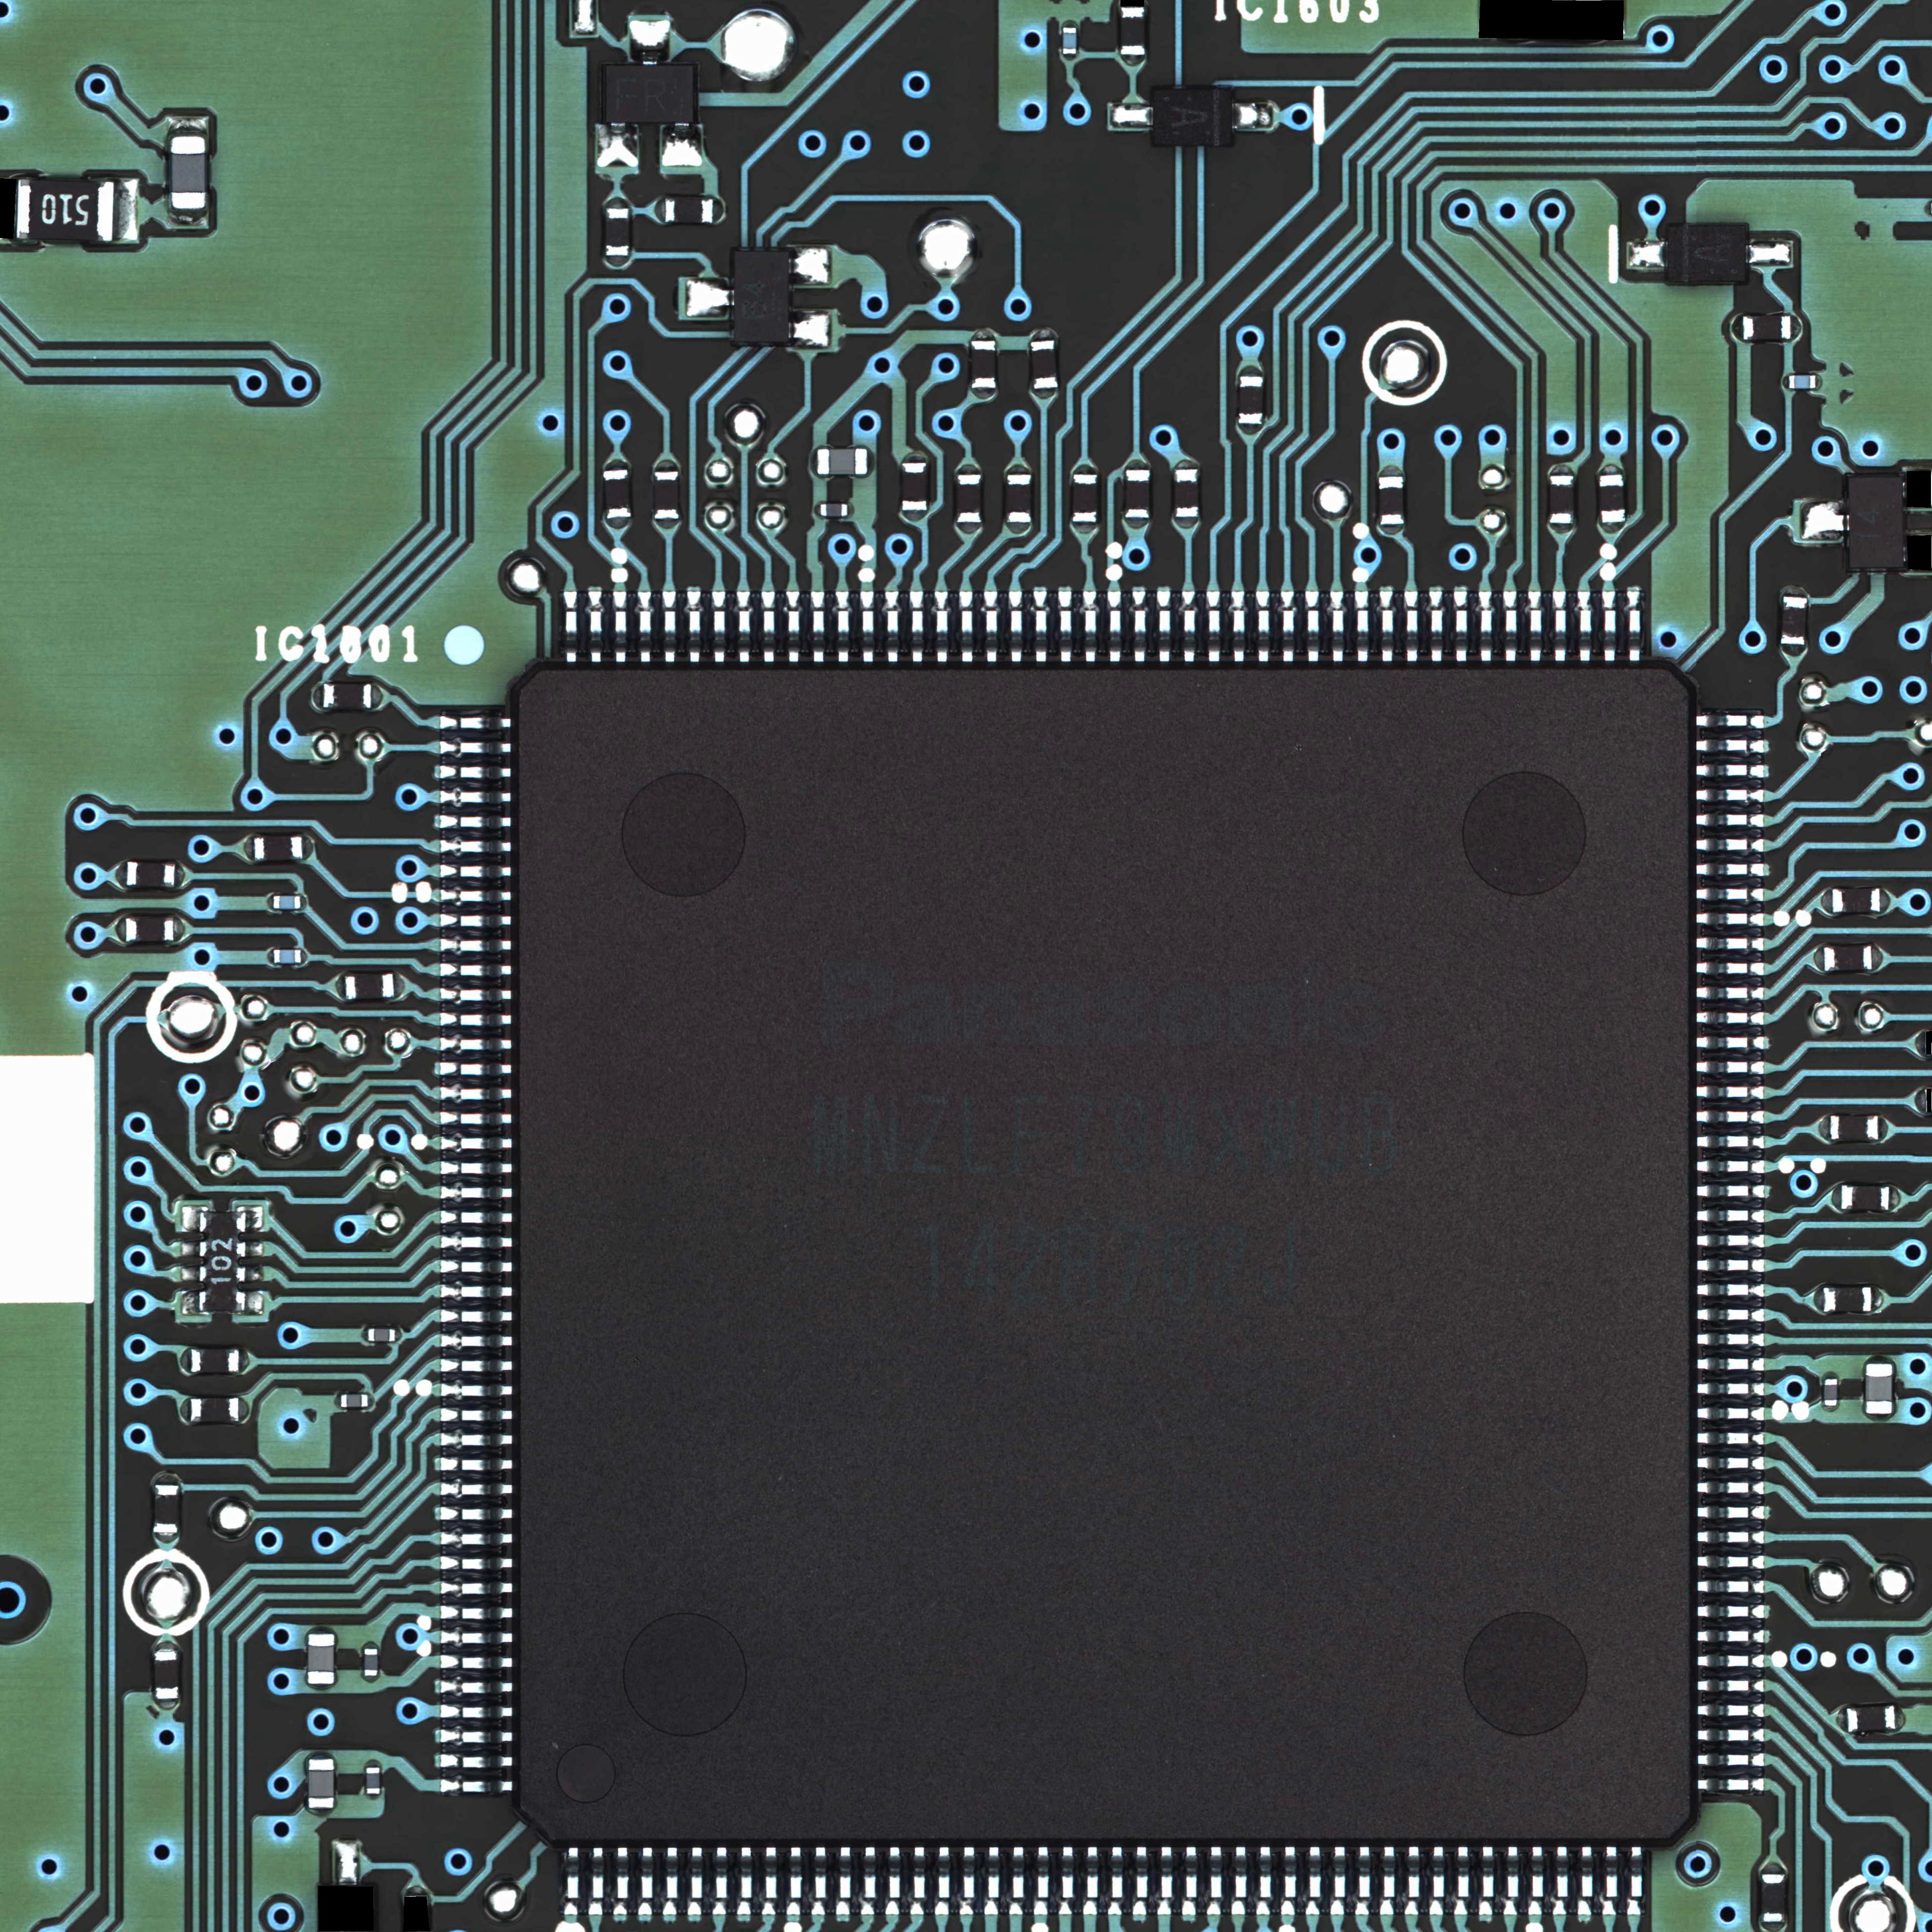Package: (513, 663, 1695, 1845), (1845, 474, 1905, 573), (18, 179, 113, 241), (607, 65, 694, 122), (736, 251, 789, 341), (200, 1212, 246, 1313), (1154, 88, 1231, 145), (1668, 225, 1746, 281), (172, 136, 205, 209), (308, 1633, 334, 1684), (603, 471, 632, 518), (1030, 340, 1058, 387), (308, 1759, 334, 1808), (1847, 1706, 1897, 1732), (1822, 1286, 1872, 1313), (955, 474, 982, 522), (1599, 474, 1626, 522), (1824, 945, 1872, 971), (345, 973, 395, 998), (189, 1398, 239, 1422), (1125, 469, 1150, 518), (817, 449, 867, 474), (1238, 375, 1263, 425), (1867, 1364, 1891, 1414), (1829, 1115, 1879, 1139), (324, 683, 372, 708), (127, 862, 175, 886), (126, 916, 173, 941), (191, 1348, 239, 1373), (154, 1484, 179, 1532), (665, 198, 713, 223), (971, 340, 996, 387), (655, 471, 679, 518), (902, 462, 927, 510), (1378, 476, 1403, 524), (1548, 476, 1573, 524), (1842, 1185, 1890, 1210), (1782, 596, 1806, 644), (1120, 7, 1145, 55), (253, 837, 303, 860), (1072, 474, 1097, 520), (156, 1651, 179, 1698), (1007, 474, 1030, 522), (1175, 469, 1198, 517), (1762, 1874, 1785, 1921), (1743, 317, 1790, 340), (1833, 888, 1879, 911), (607, 209, 628, 255), (363, 1649, 379, 1675), (272, 895, 301, 909), (341, 1394, 368, 1408), (366, 1767, 380, 1794), (1063, 28, 1077, 53), (1790, 375, 1815, 389), (274, 950, 301, 962), (368, 1329, 395, 1341), (821, 504, 847, 517), (1824, 1378, 1836, 1405)
Solder: (685, 278, 734, 318), (594, 124, 639, 168), (1801, 499, 1845, 541), (662, 122, 702, 166), (630, 19, 671, 64), (789, 246, 832, 287), (789, 310, 832, 349), (115, 179, 140, 244), (331, 1838, 359, 1884), (860, 1845, 878, 1916), (909, 1845, 927, 1916), (934, 1845, 952, 1916), (984, 1845, 1001, 1916), (1279, 1845, 1297, 1916), (612, 1845, 630, 1916), (711, 1845, 729, 1916), (761, 591, 777, 663), (835, 591, 851, 663), (860, 591, 876, 663), (909, 591, 925, 663), (1106, 591, 1122, 663), (1378, 591, 1394, 663), (1576, 591, 1592, 663), (1748, 239, 1790, 265), (736, 1845, 752, 1916), (763, 1845, 778, 1916), (787, 1845, 803, 1916), (810, 1845, 826, 1916), (837, 1845, 853, 1916), (886, 1845, 902, 1916), (959, 1845, 975, 1916), (1008, 1845, 1024, 1916), (1033, 1845, 1049, 1916), (1058, 1845, 1074, 1916), (1083, 1845, 1099, 1916), (1108, 1845, 1123, 1916), (1132, 1845, 1148, 1916), (1157, 1845, 1173, 1916), (1182, 1845, 1198, 1916), (1207, 1845, 1223, 1916), (1231, 1845, 1247, 1916), (1256, 1845, 1272, 1916), (1306, 1845, 1322, 1916), (1330, 1845, 1346, 1916), (1355, 1845, 1371, 1916), (1380, 1845, 1396, 1916), (1405, 1845, 1421, 1916), (1479, 1845, 1495, 1916), (1504, 1845, 1520, 1916), (1529, 1845, 1545, 1916), (563, 1845, 579, 1916), (587, 1845, 603, 1916), (637, 1845, 653, 1916), (662, 1845, 678, 1916), (686, 1845, 702, 1916), (1695, 1307, 1766, 1323), (1695, 1060, 1766, 1076), (1695, 862, 1766, 878), (1430, 1845, 1445, 1914), (1454, 1845, 1470, 1914), (1697, 1456, 1766, 1472), (1697, 787, 1766, 803), (1697, 1085, 1764, 1100), (1697, 886, 1764, 902), (1697, 763, 1764, 778), (1697, 738, 1764, 754), (1697, 713, 1764, 729), (1629, 241, 1667, 269), (1430, 589, 1444, 663), (1454, 589, 1468, 663), (1233, 101, 1272, 127), (564, 591, 579, 663), (589, 591, 603, 663), (639, 591, 653, 663), (612, 591, 626, 663), (663, 591, 678, 663), (688, 591, 702, 663), (711, 591, 725, 663), (736, 591, 750, 663), (787, 591, 801, 663), (810, 591, 824, 663), (886, 591, 901, 663), (934, 591, 948, 663), (959, 591, 973, 663), (984, 591, 998, 663), (1008, 591, 1023, 663), (1033, 591, 1047, 663), (1058, 591, 1072, 663), (1083, 591, 1097, 663), (1132, 591, 1146, 663), (1157, 591, 1171, 663), (1182, 591, 1196, 663), (1207, 591, 1221, 663), (1231, 591, 1246, 663), (1256, 591, 1270, 663), (1281, 591, 1295, 663), (1306, 591, 1320, 663), (1330, 591, 1345, 663), (1355, 591, 1369, 663), (1405, 591, 1419, 663), (1479, 591, 1493, 663), (1504, 591, 1518, 663), (1529, 591, 1543, 663), (1553, 591, 1568, 663), (1603, 591, 1617, 663), (1626, 591, 1640, 663), (441, 1778, 513, 1792), (441, 1753, 513, 1767), (441, 1679, 513, 1693), (441, 1654, 513, 1668), (441, 1580, 513, 1594), (441, 1555, 513, 1569), (441, 1483, 513, 1497), (441, 1458, 513, 1472), (441, 1384, 513, 1398), (441, 1359, 513, 1373), (441, 1334, 513, 1348), (441, 1309, 513, 1323), (441, 1284, 513, 1299), (441, 1260, 513, 1274), (441, 1161, 513, 1175), (441, 1136, 513, 1150), (441, 1012, 513, 1026), (441, 987, 513, 1001), (441, 913, 513, 927), (441, 888, 513, 902), (441, 863, 513, 878), (441, 839, 513, 853), (441, 814, 513, 828), (441, 789, 513, 803), (1578, 1845, 1592, 1916), (1603, 1845, 1617, 1916), (1628, 1845, 1642, 1916), (441, 1729, 511, 1743), (441, 1704, 511, 1718), (441, 1629, 511, 1644), (441, 1605, 511, 1619), (441, 1530, 511, 1545), (441, 1506, 511, 1520), (441, 1433, 511, 1447), (441, 1408, 511, 1422), (441, 1235, 511, 1249), (441, 1210, 511, 1224), (441, 1185, 511, 1200), (441, 1111, 511, 1125), (441, 1086, 511, 1100), (441, 1062, 511, 1076), (441, 1037, 511, 1051), (441, 962, 511, 977), (441, 938, 511, 952), (441, 764, 511, 778), (441, 740, 511, 754), (441, 715, 511, 729), (1695, 1506, 1766, 1520), (1695, 1481, 1766, 1495), (1695, 1357, 1766, 1371), (1695, 1332, 1766, 1346), (1695, 1283, 1766, 1297), (1695, 1258, 1766, 1272), (1695, 1184, 1766, 1198), (1695, 1136, 1766, 1150), (1695, 839, 1766, 853), (1695, 814, 1766, 828), (1695, 1530, 1766, 1545), (1695, 1555, 1766, 1569), (1695, 1580, 1766, 1594), (1695, 1605, 1766, 1619), (1695, 1729, 1766, 1743), (1695, 1753, 1766, 1767), (1109, 104, 1152, 127), (1553, 1845, 1568, 1914), (1695, 1431, 1764, 1445), (1697, 1407, 1766, 1421), (1697, 1208, 1766, 1223), (1697, 1161, 1766, 1175), (1697, 1111, 1766, 1125), (1697, 1012, 1766, 1026), (1697, 962, 1766, 977), (1695, 938, 1764, 952), (1697, 1629, 1766, 1644), (1697, 1654, 1766, 1668), (1695, 1679, 1764, 1693), (1697, 1704, 1766, 1718), (1695, 1778, 1764, 1792), (1697, 1037, 1764, 1051), (1695, 913, 1766, 925), (1697, 1384, 1766, 1396), (1697, 1235, 1766, 1247), (1695, 987, 1764, 1000), (168, 117, 209, 136), (166, 209, 207, 226), (237, 1205, 264, 1231), (182, 1205, 209, 1231), (182, 1292, 209, 1316), (235, 1292, 264, 1315), (603, 518, 632, 531), (1030, 327, 1058, 340), (173, 915, 186, 943), (713, 198, 725, 225), (1072, 522, 1099, 534), (1817, 1115, 1829, 1141), (1872, 1286, 1884, 1313), (246, 1240, 264, 1258), (180, 1265, 200, 1281), (372, 685, 384, 709), (655, 458, 679, 471), (1730, 317, 1743, 341), (1782, 584, 1806, 596), (1601, 522, 1626, 534), (1378, 464, 1403, 476), (1821, 888, 1833, 913), (115, 862, 127, 886), (1122, 55, 1146, 67), (1813, 943, 1824, 971), (1890, 1184, 1900, 1212), (152, 1474, 180, 1484), (175, 860, 186, 888), (653, 198, 665, 221), (1127, 518, 1150, 531), (1762, 1861, 1785, 1874), (655, 520, 681, 531), (1031, 389, 1058, 400), (955, 524, 982, 534), (1070, 464, 1097, 474), (1790, 315, 1801, 341), (1782, 646, 1808, 656), (1829, 1184, 1840, 1210), (1836, 1706, 1847, 1732), (179, 1346, 189, 1373), (246, 1265, 264, 1281), (182, 1240, 200, 1256), (303, 835, 313, 862), (1914, 1030, 1925, 1056), (605, 196, 630, 207), (605, 257, 630, 267), (311, 683, 322, 708), (902, 451, 927, 462), (904, 511, 929, 522), (971, 329, 996, 340), (971, 389, 996, 400), (1007, 524, 1031, 534), (1175, 518, 1200, 529), (1238, 364, 1263, 375), (1599, 464, 1624, 474), (1378, 525, 1403, 536), (154, 1700, 179, 1711), (154, 1640, 179, 1651), (154, 1532, 179, 1543), (239, 1398, 249, 1422), (179, 1398, 189, 1422), (395, 973, 405, 998), (334, 973, 345, 998), (242, 835, 253, 860), (1914, 1088, 1925, 1113), (809, 446, 817, 474), (1874, 943, 1882, 971), (1879, 1113, 1888, 1141), (1813, 1284, 1822, 1313), (1550, 524, 1573, 534), (1762, 1921, 1785, 1932), (405, 1886, 428, 1897), (603, 460, 630, 469), (1881, 886, 1890, 913), (308, 1808, 334, 1817), (308, 1624, 334, 1633), (115, 915, 124, 941), (1005, 464, 1030, 472), (1125, 460, 1150, 469), (1548, 465, 1573, 474), (241, 1348, 249, 1373), (1175, 460, 1198, 469), (1240, 426, 1263, 435), (1898, 1704, 1905, 1732), (1865, 1355, 1891, 1362), (1867, 1415, 1893, 1422), (867, 449, 874, 474), (955, 465, 980, 472), (308, 1752, 334, 1757), (308, 1684, 334, 1690), (359, 1327, 368, 1343), (265, 893, 272, 911), (1782, 373, 1789, 389), (1822, 1371, 1838, 1378), (1822, 1407, 1838, 1414), (363, 1640, 379, 1647), (396, 1325, 403, 1341), (265, 948, 272, 964), (301, 895, 308, 911), (1063, 55, 1077, 62), (1817, 375, 1824, 389), (366, 1759, 380, 1766), (366, 1794, 380, 1801), (301, 950, 308, 964), (363, 1677, 380, 1683), (814, 502, 821, 515), (1063, 19, 1076, 27), (370, 1394, 375, 1408), (334, 1394, 340, 1408), (849, 504, 855, 517)
